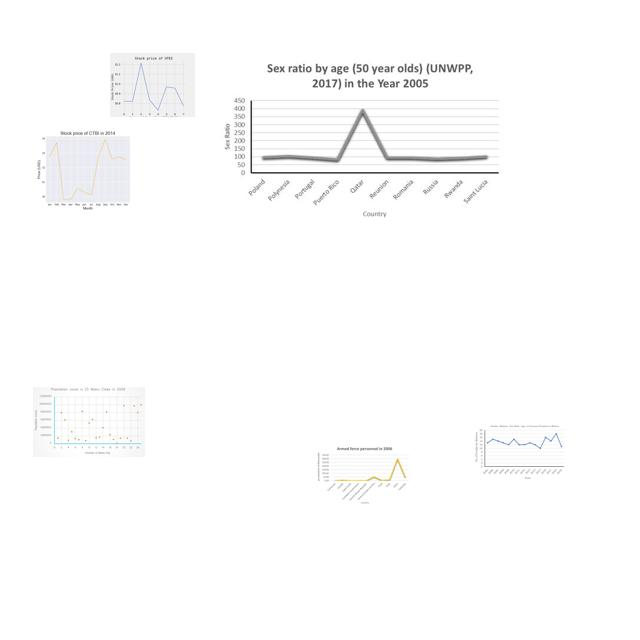Graph: (216, 56, 504, 220), (29, 126, 144, 212), (33, 387, 145, 457), (316, 445, 411, 507), (110, 53, 195, 117), (474, 423, 566, 481)
